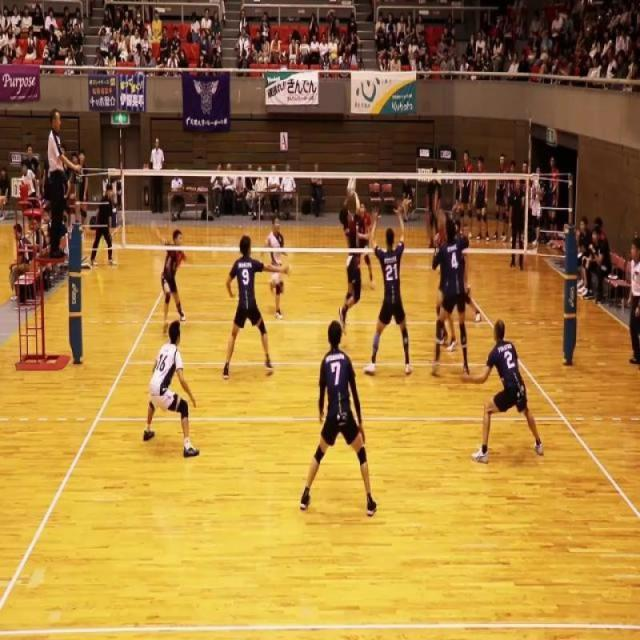volleyball: (346, 176, 357, 196)
